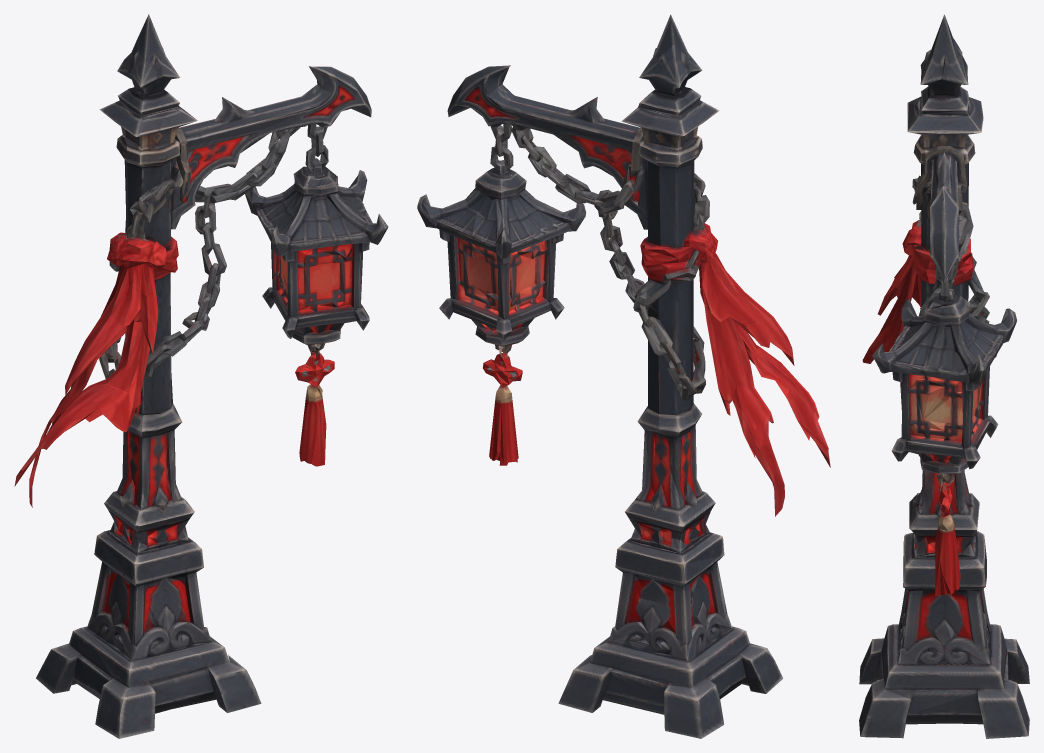
File: lantern_demon.glb
The picture shows the model from 3 angles, left to right: view 1: azimuth 30°, elevation 25°; view 2: azimuth 150°, elevation 25°; view 3: azimuth 270°, elevation 25°; orthographic projection.
Parts seen in each view (by area): view 1: output_unwrapped; view 2: output_unwrapped; view 3: output_unwrapped.
Boxes of the visible parts, box(x1,y1,x2,y2) form: output_unwrapped: box(14, 14, 388, 738); output_unwrapped: box(417, 14, 830, 738); output_unwrapped: box(859, 14, 1029, 738).
Bounding box in the file's own units: 1.13 × 1.9 × 0.4279.
1 material, 1 textured.
